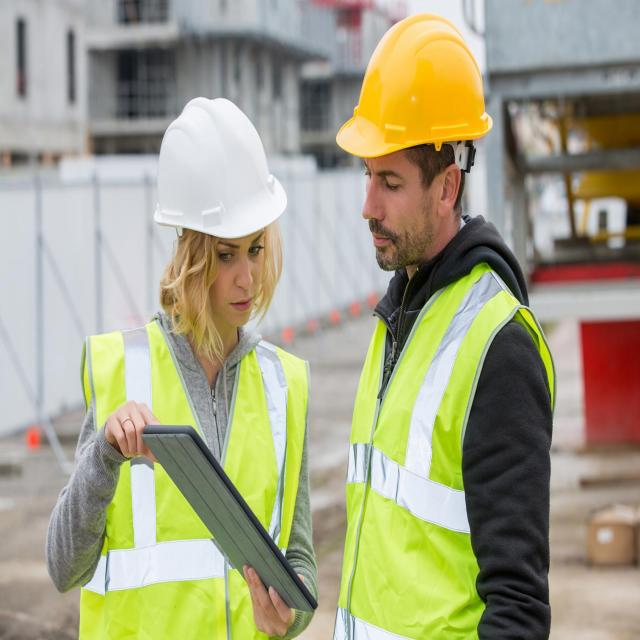Reflective-Jacket: (334, 264, 556, 638), (74, 322, 314, 639)
Safety-Helmet: (334, 9, 494, 162), (151, 88, 287, 245)
